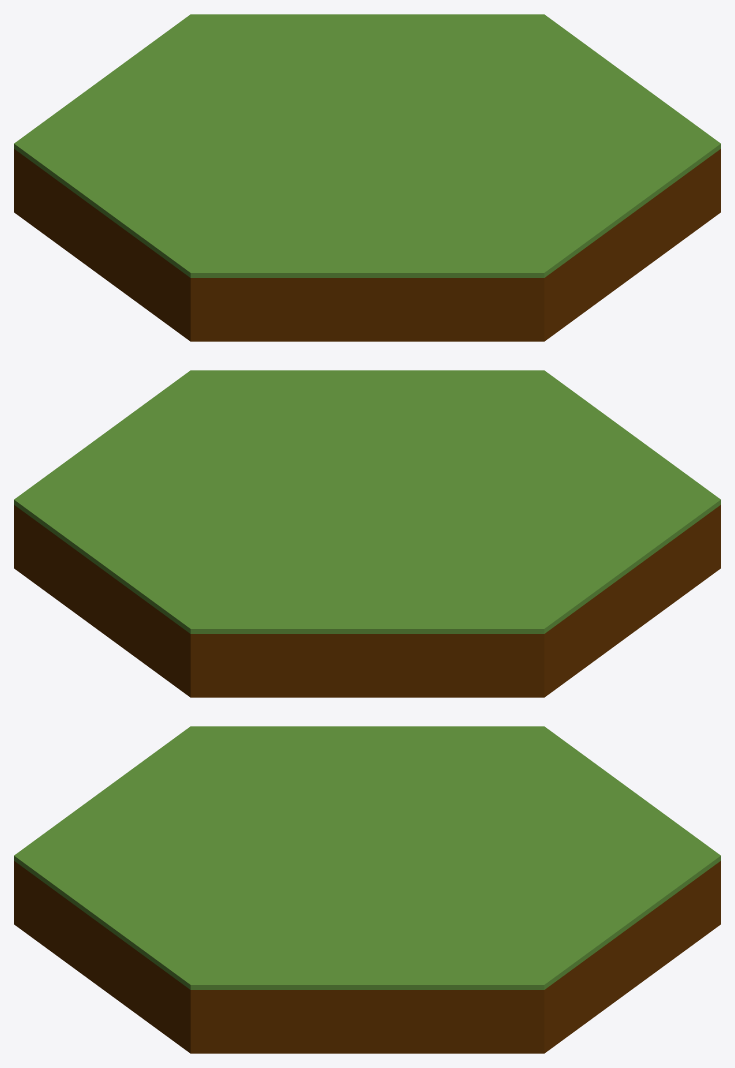
File: grass1.fbx
The picture shows the model from 3 angles, top to bottom: view 1: azimuth 30°, elevation 25°; view 2: azimuth 150°, elevation 25°; view 3: azimuth 270°, elevation 25°; orthographic projection.
Visible parts, largest first — view 1: pasted__pasted__pCylinder4; view 2: pasted__pasted__pCylinder4; view 3: pasted__pasted__pCylinder4.
Boxes of the visible parts, box(x1,y1,x2,y2) form: pasted__pasted__pCylinder4: box(14, 14, 720, 341); pasted__pasted__pCylinder4: box(14, 370, 720, 697); pasted__pasted__pCylinder4: box(14, 726, 720, 1053).
Size of the model in its own units: 1.73 by 0.2148 by 2.
